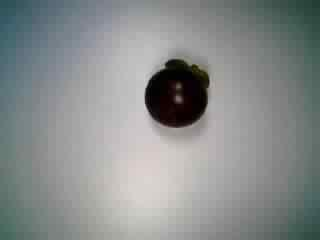mangosteen: (138, 55, 211, 132)
